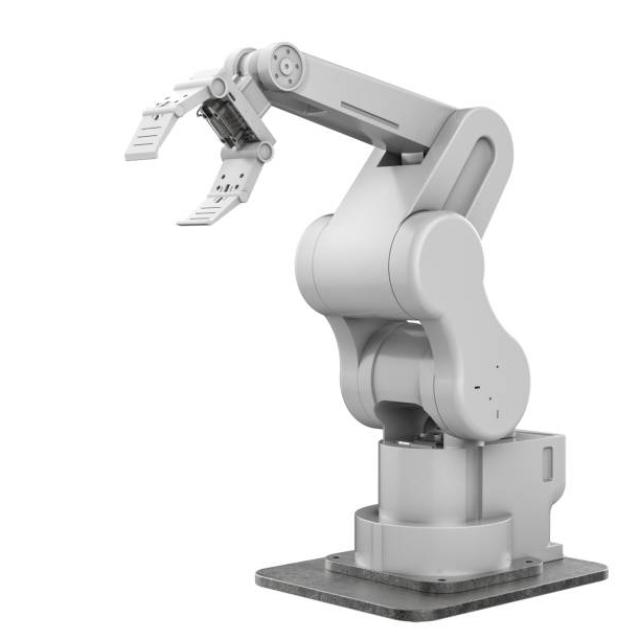Robotic-arm: (121, 31, 601, 632)
